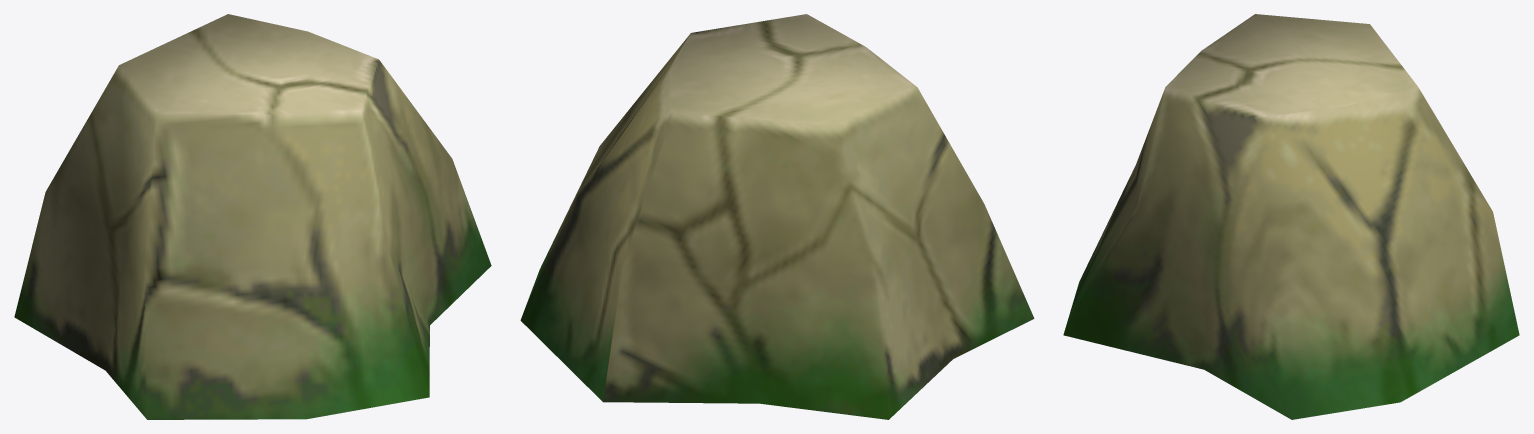
The model's file is cj_shan4.fbx.
3 renders of one model, left to right at view 1: azimuth 30°, elevation 25°; view 2: azimuth 150°, elevation 25°; view 3: azimuth 270°, elevation 25°, orthographic. The views are drawn at different scales.
Visible parts, largest first — view 1: cj_shan4; view 2: cj_shan4; view 3: cj_shan4.
Part boxes in pixels (x1,y1,x2,y2): cj_shan4: (14,14,491,419); cj_shan4: (520,14,1034,419); cj_shan4: (1063,14,1519,419).
Bounding box in the file's own units: 616 × 356 × 611.
